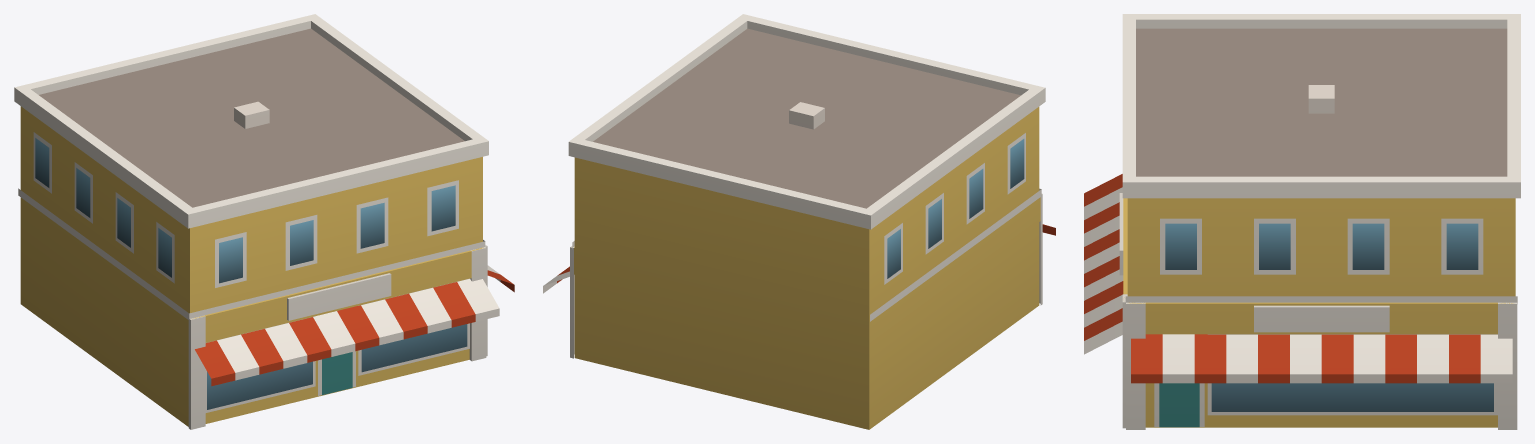
Rendered from hotdog_shop_far.glb.
3 views of the same model, side by side, from view 1: azimuth 30°, elevation 25°; view 2: azimuth 150°, elevation 25°; view 3: azimuth 270°, elevation 25° (orthographic). The views are drawn at different scales.
Parts seen in each view (by area): view 1: hotdog_shop_far; view 2: hotdog_shop_far; view 3: hotdog_shop_far.
Boxes of the visible parts, box(x1,y1,x2,y2) form: hotdog_shop_far: box(14, 14, 514, 429); hotdog_shop_far: box(543, 14, 1055, 429); hotdog_shop_far: box(1084, 14, 1520, 429).
Bounding box in the file's own units: 13.51 × 8.67 × 13.51.
1 material, 1 textured.
